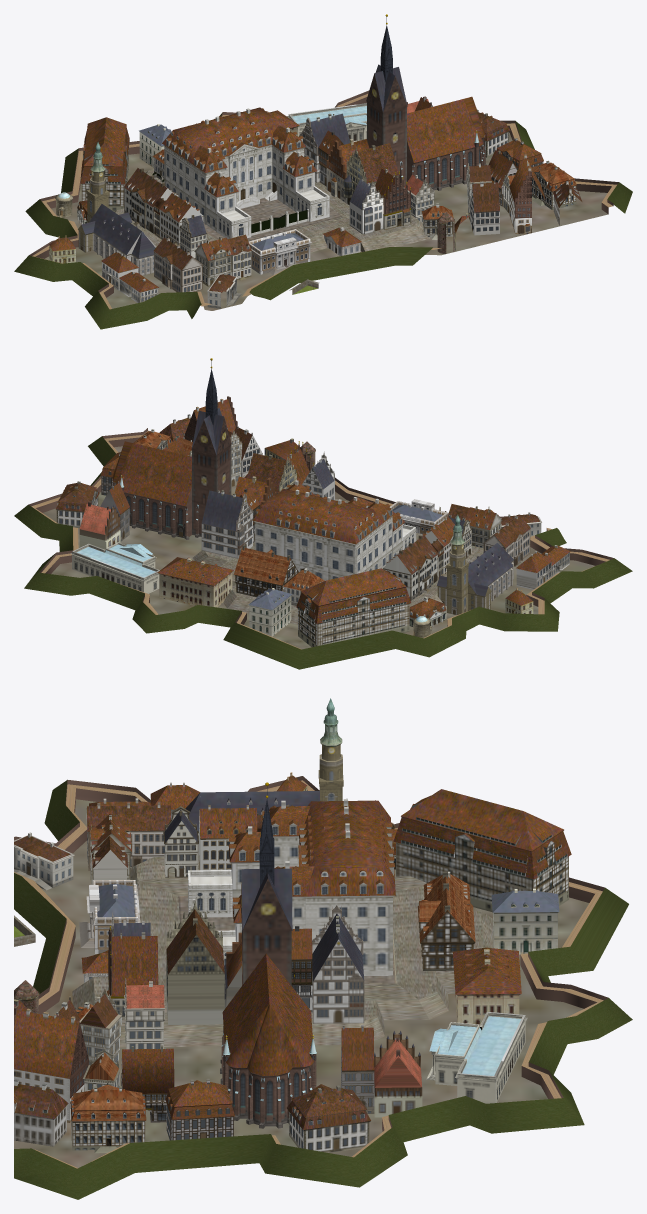
Rendered from city_hannover_cleared.glb.
3 renders of one model, top to bottom at view 1: azimuth 30°, elevation 25°; view 2: azimuth 150°, elevation 25°; view 3: azimuth 270°, elevation 25°, orthographic. The views are drawn at different scales.
Parts seen in each view (by area): view 1: Object_6, Object_4, Object_2, Object_5, Object_3, Object_7; view 2: Object_6, Object_2, Object_7, Object_4, Object_3, Object_5; view 3: Object_6, Object_2, Object_3, Object_7, Object_4, Object_5.
Boxes of the visible parts, left/top/right/bottom form: Object_6: left=14, top=90, right=632, bottom=329; Object_4: left=162, top=107, right=411, bottom=240; Object_2: left=78, top=108, right=582, bottom=302; Object_5: left=366, top=14, right=486, bottom=190; Object_3: left=78, top=103, right=576, bottom=275; Object_7: left=55, top=97, right=512, bottom=294; Object_6: left=14, top=396, right=632, bottom=669; Object_2: left=56, top=415, right=556, bottom=647; Object_7: left=79, top=437, right=502, bottom=637; Object_4: left=252, top=441, right=416, bottom=580; Object_3: left=56, top=428, right=513, bottom=613; Object_5: left=112, top=358, right=231, bottom=539; Object_6: left=14, top=772, right=632, bottom=1199; Object_2: left=14, top=770, right=571, bottom=1152; Object_3: left=71, top=698, right=527, bottom=1153; Object_7: left=14, top=810, right=521, bottom=1127; Object_4: left=108, top=800, right=395, bottom=996; Object_5: left=220, top=782, right=316, bottom=1128.
Bounding box in the file's own units: 103 × 32.2 × 65.25.
Materials: 1 (1 with a texture image).
